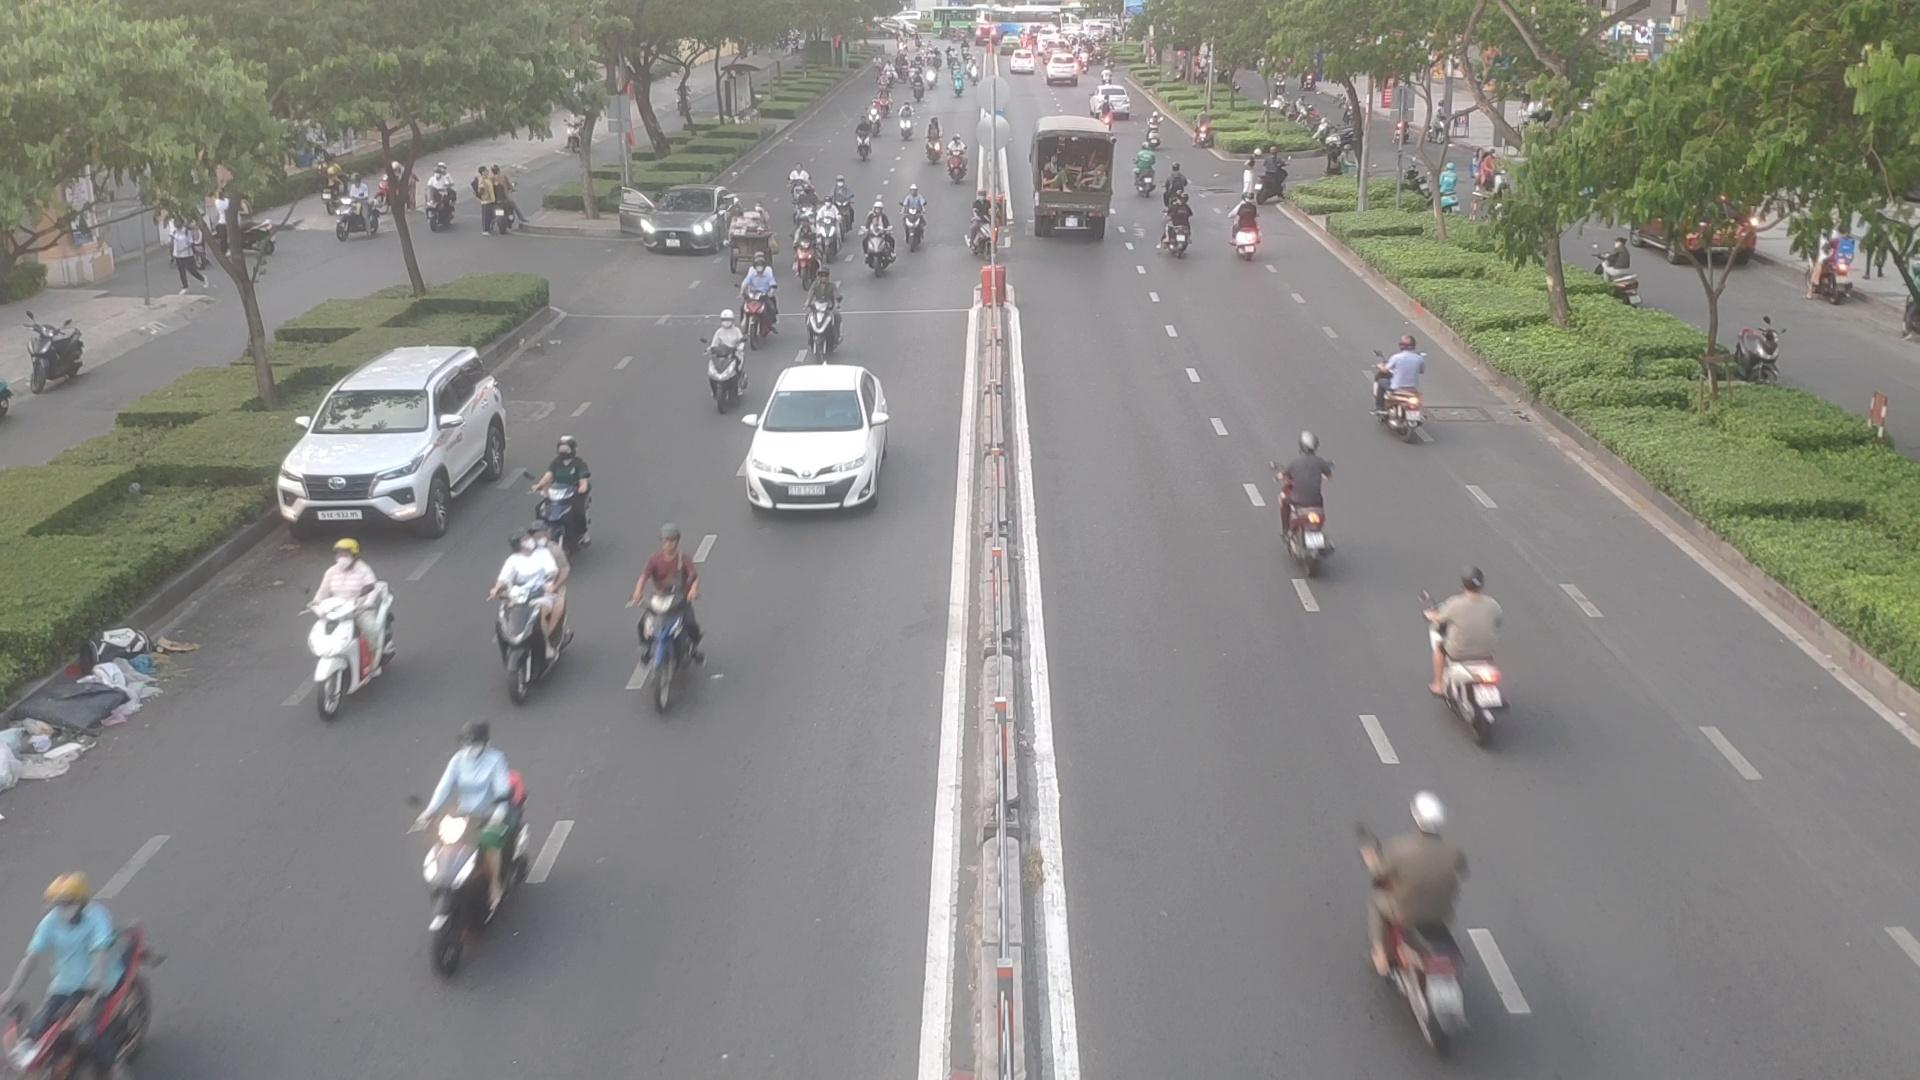car: (284, 343, 522, 531), (741, 363, 902, 510), (615, 191, 741, 258)
motorbike: (0, 866, 150, 1076), (406, 731, 538, 960), (1369, 886, 1501, 1044), (291, 556, 410, 713), (1424, 566, 1523, 731), (622, 545, 715, 709), (495, 535, 582, 699), (1265, 435, 1337, 566), (520, 440, 597, 550), (1364, 339, 1437, 429), (699, 316, 754, 406), (802, 272, 851, 349), (735, 262, 781, 340), (858, 206, 898, 276), (1158, 200, 1197, 258), (1232, 199, 1269, 260), (902, 191, 934, 253), (918, 129, 945, 162)
